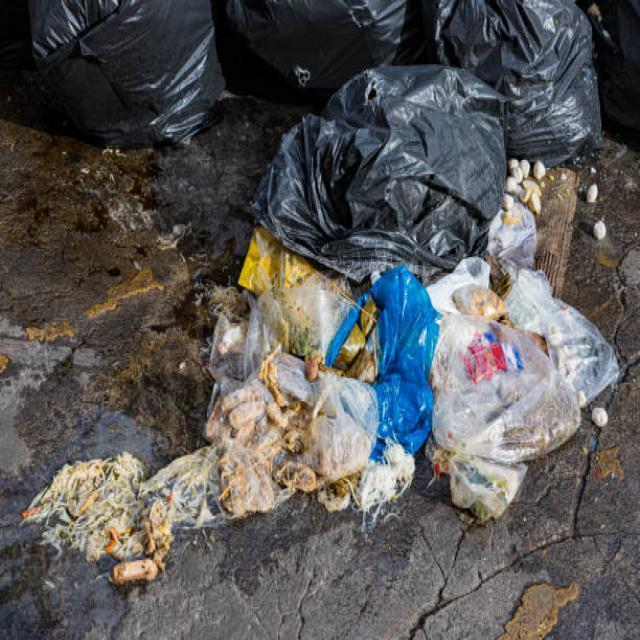Trashbag: (264, 73, 506, 284), (0, 0, 225, 148), (481, 4, 606, 158), (218, 0, 408, 100)
